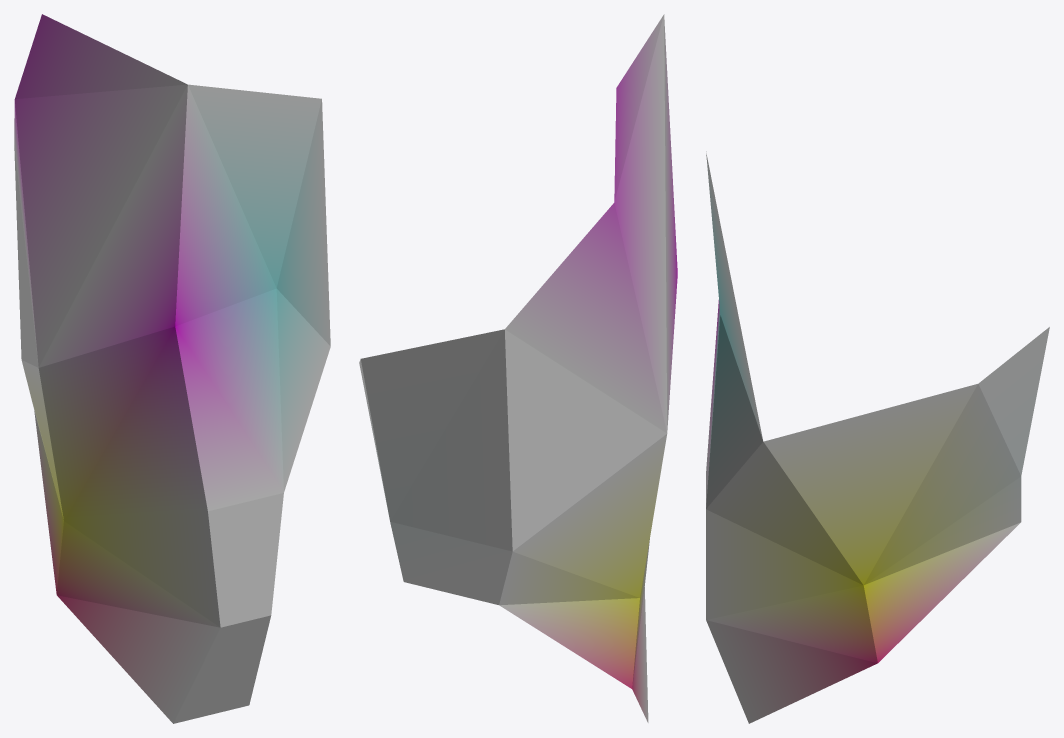
The picture shows the model from 3 angles, left to right: view 1: azimuth 30°, elevation 25°; view 2: azimuth 150°, elevation 25°; view 3: azimuth 270°, elevation 25°; orthographic projection. The views are drawn at different scales.
Parts seen in each view (by area): view 1: model_112E; view 2: model_112E; view 3: model_112E.
Part boxes in pixels (<box>): model_112E: <box>14,14,330,723</box>; model_112E: <box>359,14,677,722</box>; model_112E: <box>706,151,1049,723</box>.
Bounding box in the file's own units: 19 × 50 × 24.
